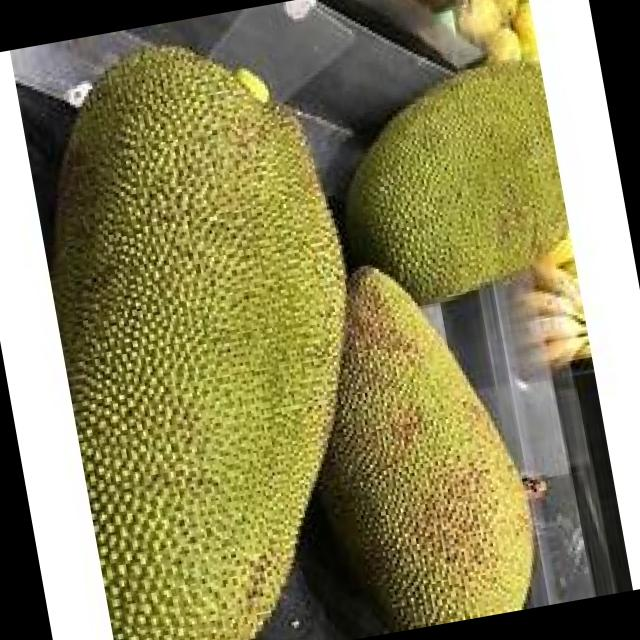Fruit: (9, 0, 391, 432), (1, 248, 405, 640), (308, 29, 579, 333)
